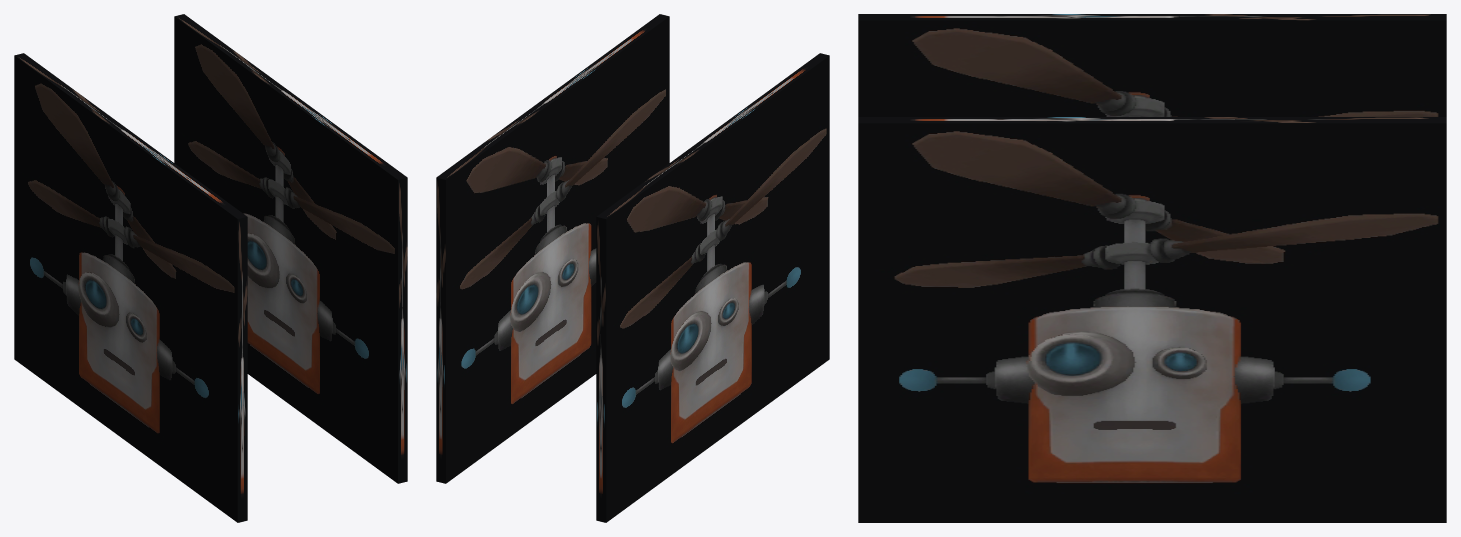
The model's file is seventeen.obj.
The picture shows the model from 3 angles, left to right: view 1: azimuth 30°, elevation 25°; view 2: azimuth 150°, elevation 25°; view 3: azimuth 270°, elevation 25°; orthographic projection. The views are drawn at different scales.
Size of the model in its own units: 21.22 by 36.23 by 48.34.
Materials: 1 (1 with a texture image).
